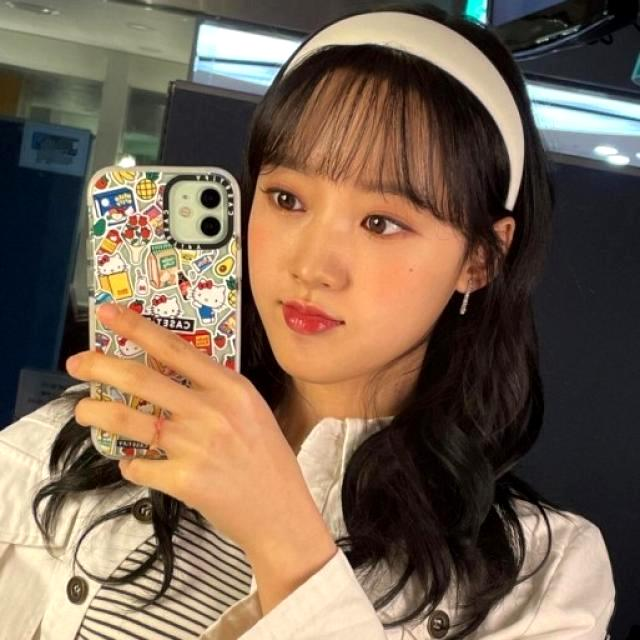lens_back: (197, 185, 226, 212), (197, 214, 223, 240)
phone: (90, 157, 241, 467)
